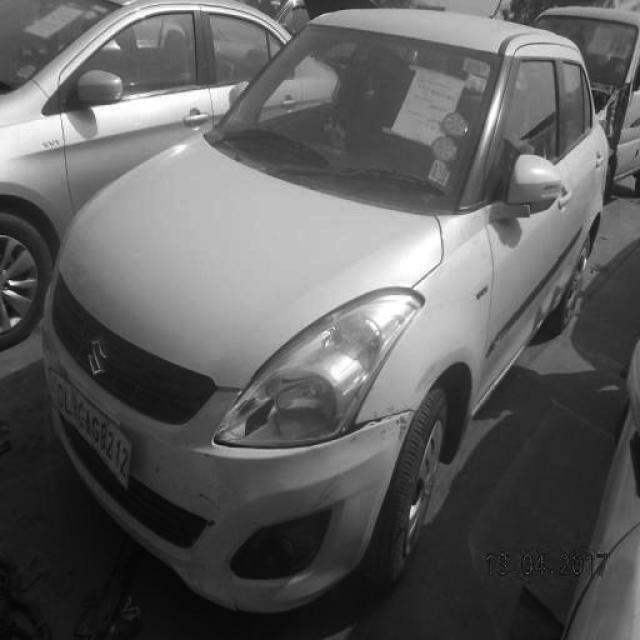car damage: (292, 415, 383, 454), (306, 468, 341, 512), (390, 403, 413, 446), (197, 482, 224, 511)
